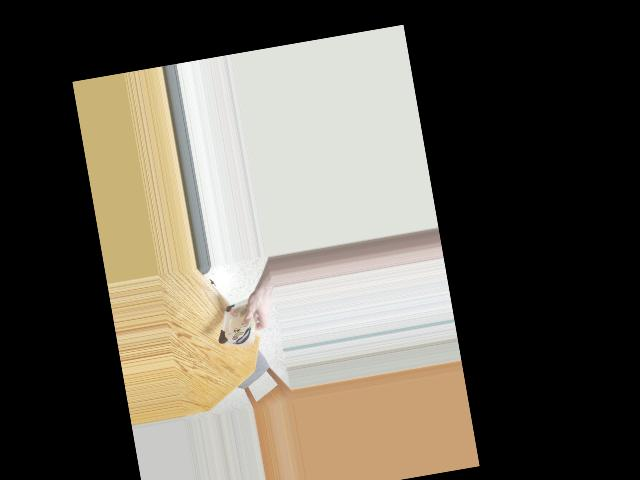cheese: (214, 293, 258, 347)
